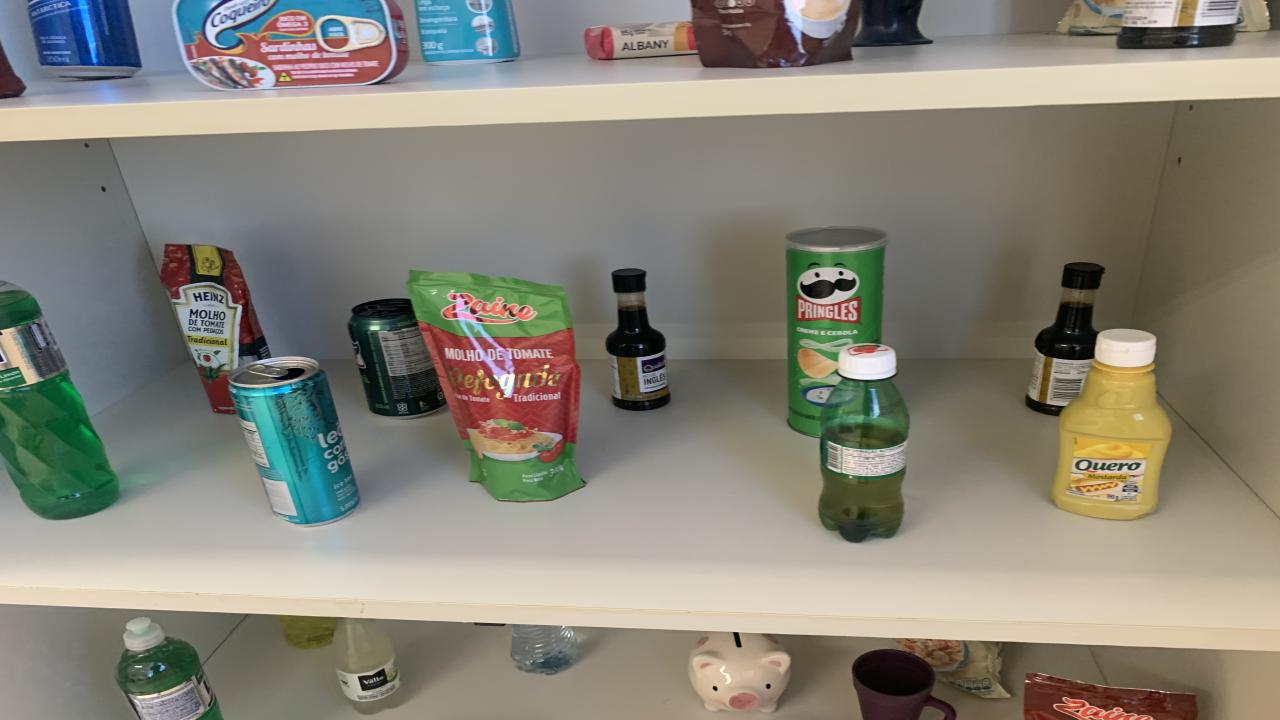Cleaner-Cleanup_Items: (415, 0, 520, 64)
Coffee-Pantry_Items: (692, 0, 860, 68)
Detergent-Cleanup_Items: (0, 279, 120, 519), (115, 617, 222, 720), (278, 615, 338, 649)
English_Sauce-Pantry_Items: (1025, 262, 1105, 414), (605, 270, 670, 411), (1118, 0, 1240, 49)
Flakes-Snacks: (898, 638, 1010, 698), (1058, 0, 1125, 36), (1238, 0, 1270, 32)
Guarana-Drinks: (818, 343, 910, 542)
Guarana_Can-Drinks: (348, 298, 445, 416)
Mustard-Pantry_Items: (1052, 330, 1172, 519)
Pig_Safe-Miscellaneous: (688, 632, 790, 712)
Pringles-Snacks: (785, 227, 888, 435)
Soap-Cleanup_Items: (582, 22, 698, 60)
Soda-Drinks: (335, 619, 402, 714)
Tea-Drinks: (228, 356, 360, 525)
Tomato_Sauce-Pantry_Items: (408, 270, 585, 501), (160, 244, 270, 412), (1025, 673, 1198, 720)
Tonic-Drinks: (28, 0, 142, 79)
Tuna_Can-Pantry_Items: (172, 0, 410, 90)
Water_Bottle-Drinks: (510, 624, 580, 675)
